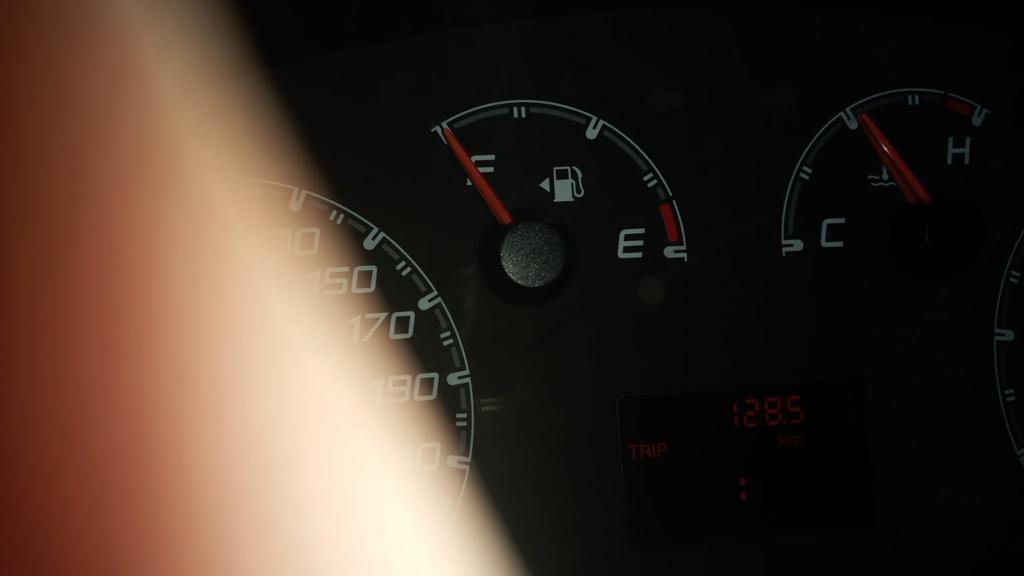,: (782, 418, 790, 426)
1: (729, 401, 739, 426)
2: (740, 397, 760, 428)
5: (786, 394, 805, 425)
8: (762, 395, 782, 426)
X: (736, 476, 749, 501), (638, 443, 651, 462), (785, 434, 802, 448), (626, 442, 639, 460), (773, 431, 785, 448), (656, 441, 666, 460), (650, 443, 656, 461)
odometer: (611, 372, 885, 549)
